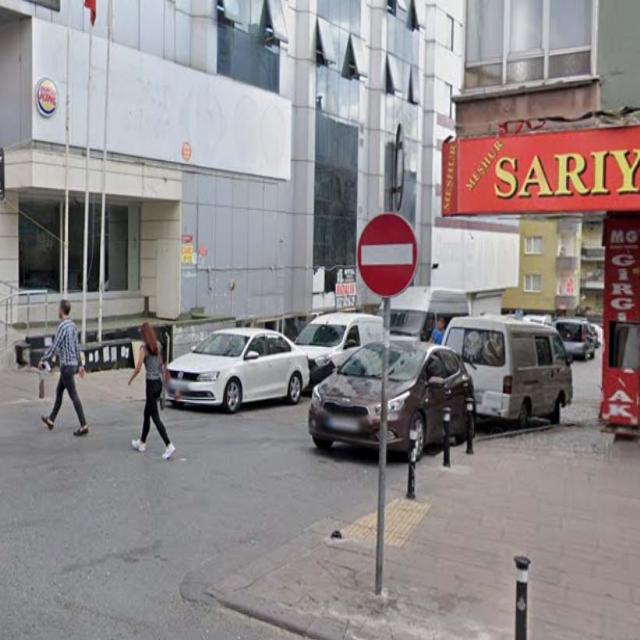girisyok: (357, 214, 419, 298)
